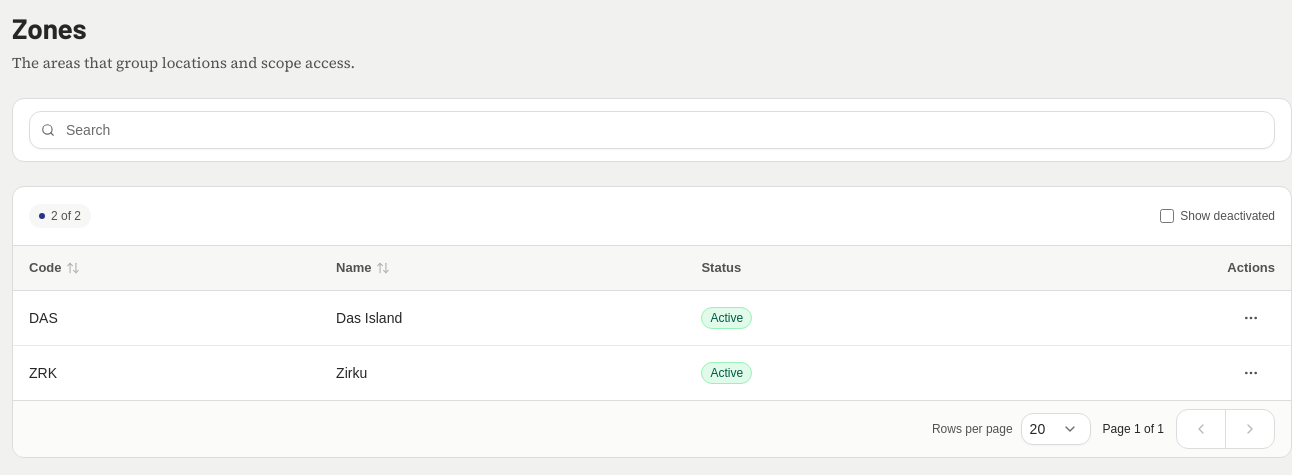
PROMPT-4.2 the master page pattern (plan P1-02) › PROMPT-2.7 a view-only user gets the list and history, nothing else
Expected: the text "Das Island" is shown, x1=320 y1=291 x2=685 y2=345
What coordinates should you click on to do the following:
click the button named "Actions for DAS · Das Island"
I would click on:
 (1251, 318)
Its box is x1=1227 y1=299 x2=1275 y2=337.
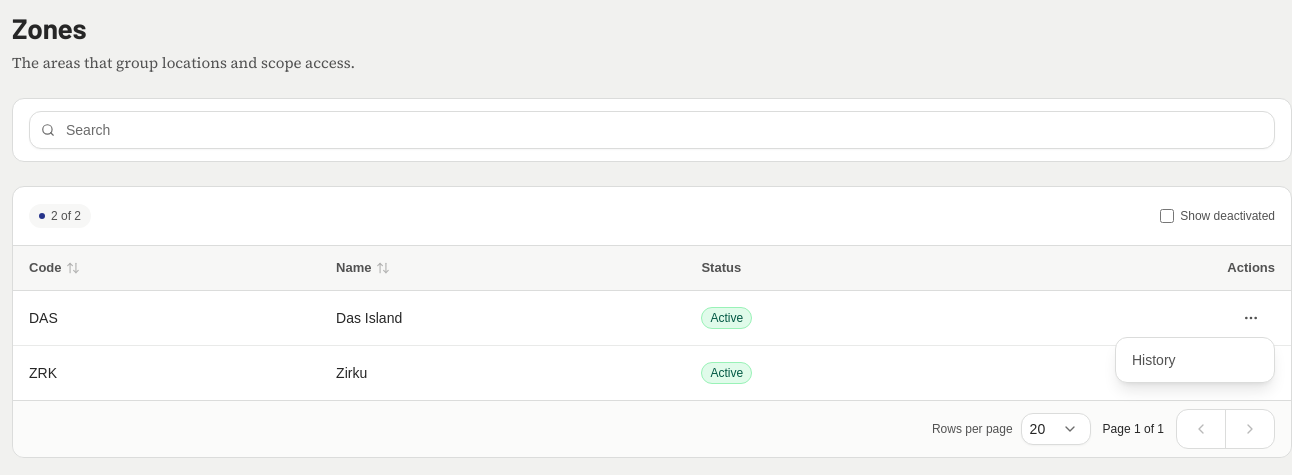
Expected: the menu items read "History", in this order, x1=1132 y1=352 x2=1176 y2=368
